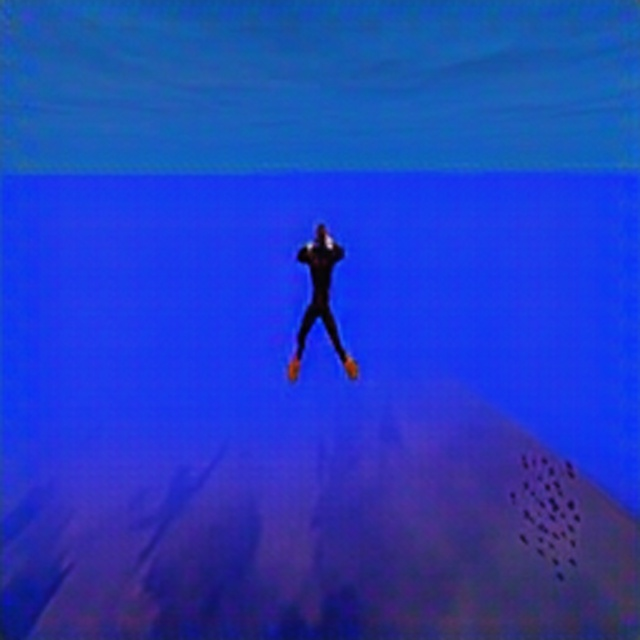diver: (285, 220, 360, 385)
